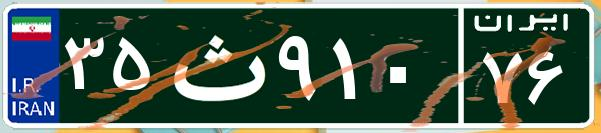0: (385, 28, 445, 110)
1: (330, 28, 385, 110)
3: (57, 26, 110, 107)
5: (110, 28, 158, 105)
6: (525, 38, 570, 115)
7: (475, 38, 525, 113)
9: (273, 28, 330, 110)
ث: (158, 15, 273, 115)
